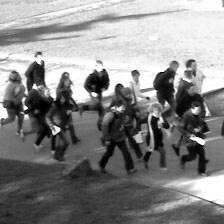person: (99, 101, 135, 175), (180, 102, 208, 178), (81, 57, 108, 132), (141, 103, 169, 172), (118, 85, 143, 162), (154, 58, 180, 131), (48, 91, 72, 162), (26, 77, 48, 147), (1, 68, 23, 137), (57, 78, 80, 144), (185, 58, 211, 115), (179, 84, 205, 137), (37, 88, 57, 154), (26, 51, 47, 90), (180, 69, 199, 112), (129, 69, 149, 103), (60, 70, 73, 84)
